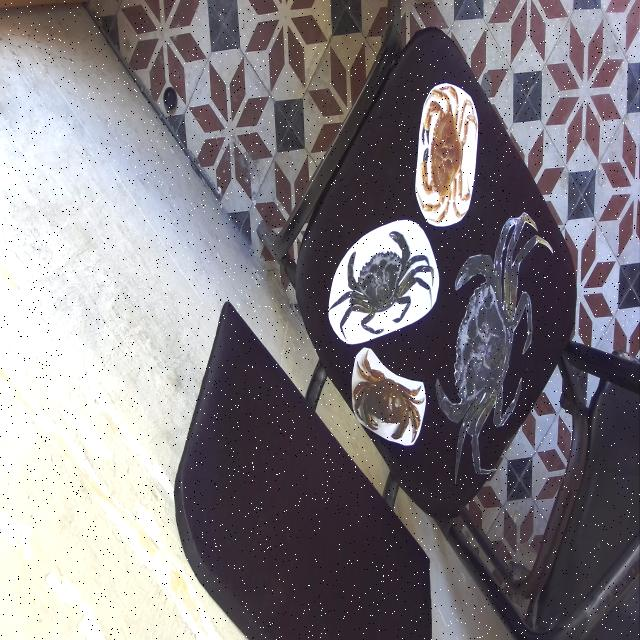European_Green_Crab: (414, 179, 557, 513), (322, 215, 439, 356)
